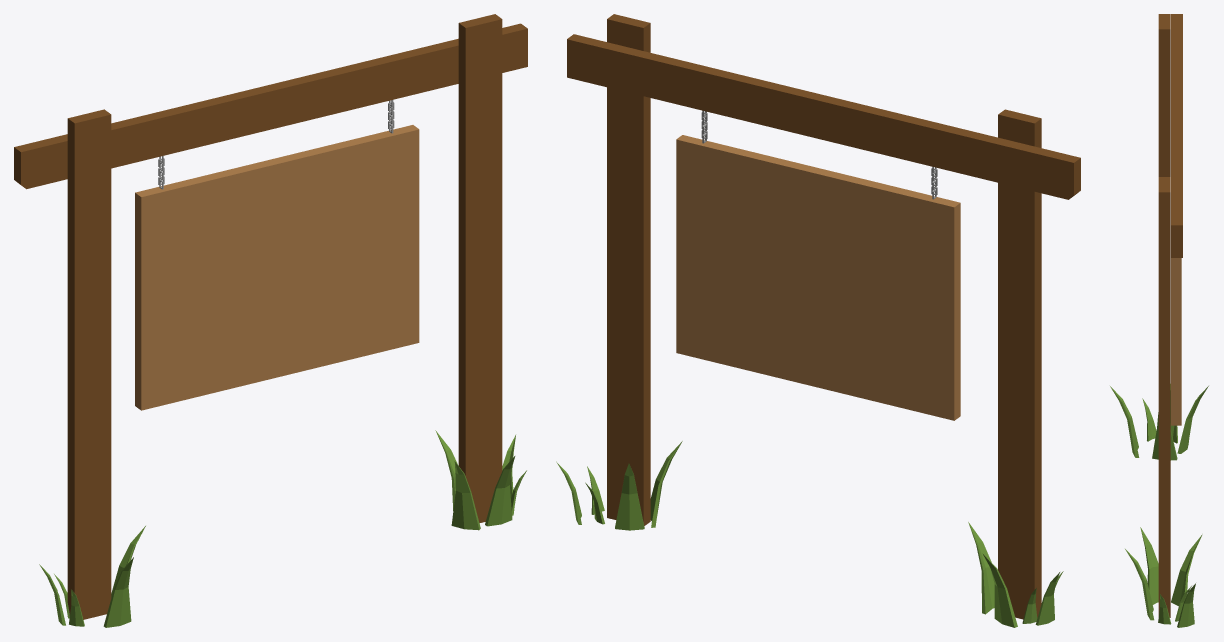
File: Wooden Sign-3MStJYAez7.glb
3 renders of one model, left to right at view 1: azimuth 30°, elevation 25°; view 2: azimuth 150°, elevation 25°; view 3: azimuth 270°, elevation 25°, orthographic. The views are drawn at different scales.
Parts seen in each view (by area): view 1: Wooden Sign-3MStJYAez7; view 2: Wooden Sign-3MStJYAez7; view 3: Wooden Sign-3MStJYAez7.
Boxes of the visible parts, x1,y1,x2,y2 form: Wooden Sign-3MStJYAez7: (14, 14, 527, 627); Wooden Sign-3MStJYAez7: (556, 14, 1080, 627); Wooden Sign-3MStJYAez7: (1110, 14, 1208, 627).
Bounding box in the file's own units: 2.22 × 2.08 × 0.4436.
